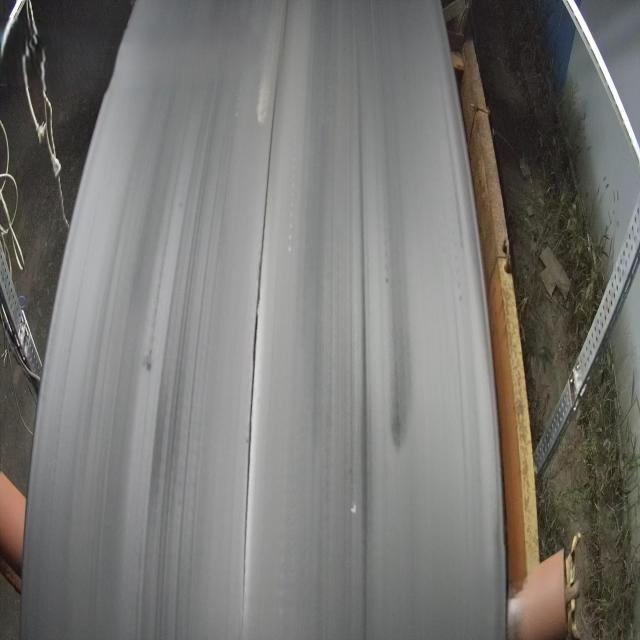Tear: (230, 84, 302, 592)
